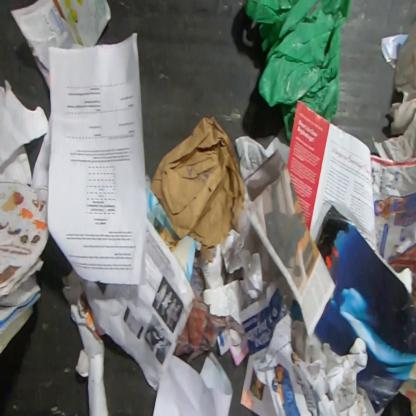cardboard: (8, 0, 112, 92), (0, 304, 36, 356)
soft_plastic: (244, 0, 353, 142)
